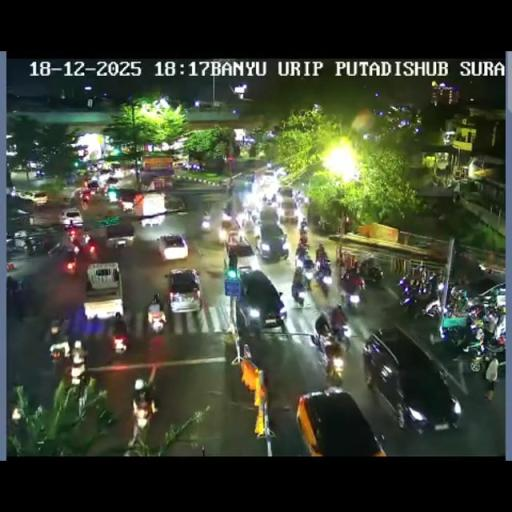Car: (363, 327, 461, 430), (296, 389, 386, 455), (233, 268, 286, 334), (84, 262, 124, 322), (168, 268, 202, 313), (255, 222, 289, 260), (134, 192, 166, 226), (102, 222, 136, 251), (226, 230, 254, 260), (157, 233, 188, 260), (278, 189, 298, 222), (114, 188, 140, 211), (258, 206, 279, 228), (162, 194, 185, 214), (219, 214, 235, 242), (60, 207, 82, 227), (20, 190, 47, 206), (258, 172, 278, 193), (86, 179, 98, 190), (106, 176, 119, 185)
Motorcycle: (128, 376, 157, 446), (66, 346, 90, 414), (400, 279, 438, 320), (436, 314, 474, 352), (318, 336, 346, 384), (478, 316, 505, 358), (338, 269, 364, 307), (6, 275, 26, 318), (9, 402, 29, 444), (448, 286, 470, 316), (313, 261, 332, 295), (330, 304, 348, 338), (49, 342, 68, 373), (148, 308, 166, 334), (291, 274, 306, 304), (121, 307, 134, 338), (466, 303, 484, 324), (112, 332, 129, 354), (366, 266, 384, 284), (295, 250, 312, 268), (317, 216, 334, 234), (302, 266, 314, 291), (63, 254, 77, 274), (70, 231, 82, 253), (260, 193, 278, 206), (49, 318, 62, 336), (200, 211, 211, 232), (25, 237, 37, 255), (86, 242, 98, 260), (358, 258, 369, 277), (235, 210, 248, 226), (338, 256, 346, 278), (315, 246, 327, 260), (299, 222, 308, 236), (294, 194, 303, 207), (82, 192, 90, 206), (282, 242, 288, 259)
